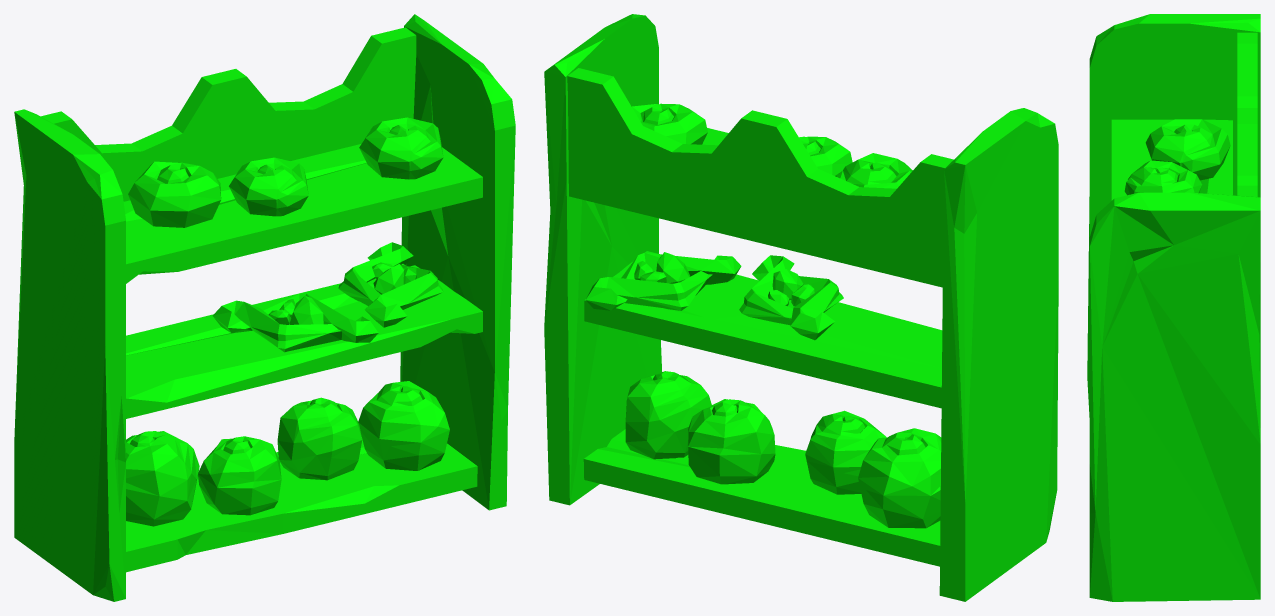
File: SM_Shelf_Wall_A_Pastry_Fantasy.fbx
3 views of the same model, side by side, from view 1: azimuth 30°, elevation 25°; view 2: azimuth 150°, elevation 25°; view 3: azimuth 270°, elevation 25° (orthographic). The views are drawn at different scales.
Visible parts, largest first — view 1: shelf-wall-a-pastry-fantasy; view 2: shelf-wall-a-pastry-fantasy; view 3: shelf-wall-a-pastry-fantasy.
Part boxes in pixels (<box>): shelf-wall-a-pastry-fantasy: <box>14,14,515,601</box>; shelf-wall-a-pastry-fantasy: <box>544,14,1058,601</box>; shelf-wall-a-pastry-fantasy: <box>1087,14,1260,601</box>.
Bounding box in the file's own units: 0.5293 × 0.5247 × 0.2062.
